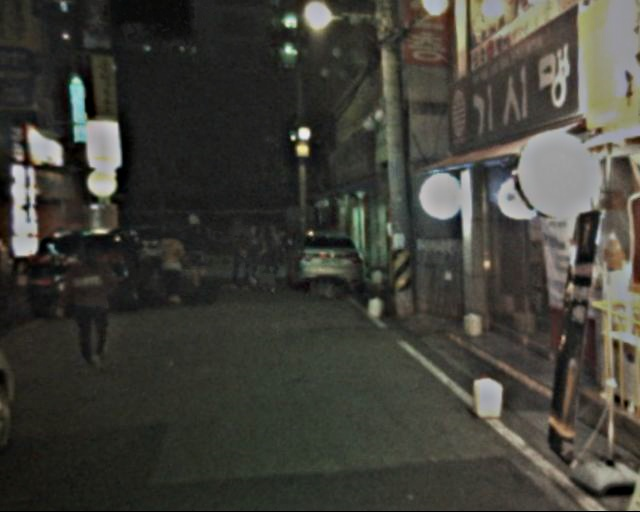person: (69, 237, 124, 363), (154, 222, 190, 309), (183, 207, 217, 292), (228, 212, 257, 293), (254, 220, 282, 298)
